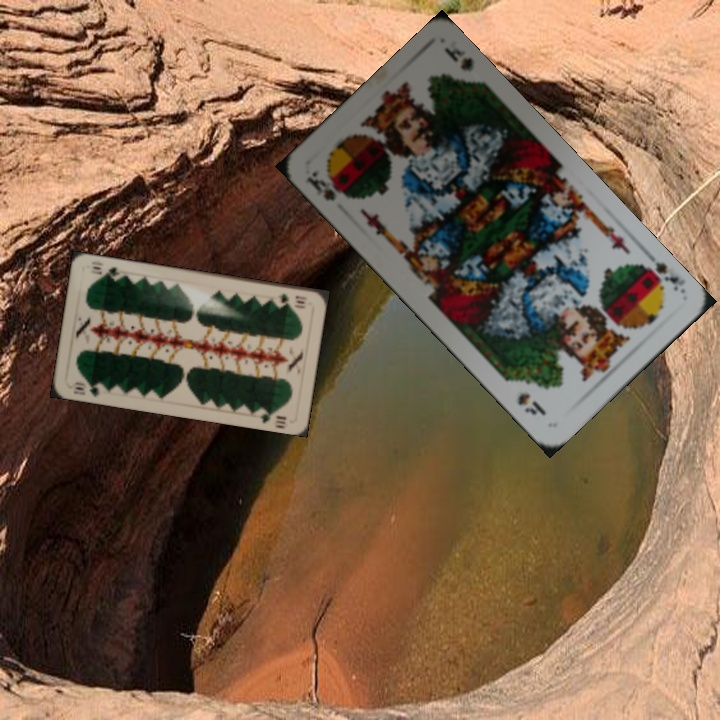G10: (66, 378, 108, 399), (274, 290, 310, 307)
SK: (633, 248, 688, 296), (302, 165, 352, 203)
